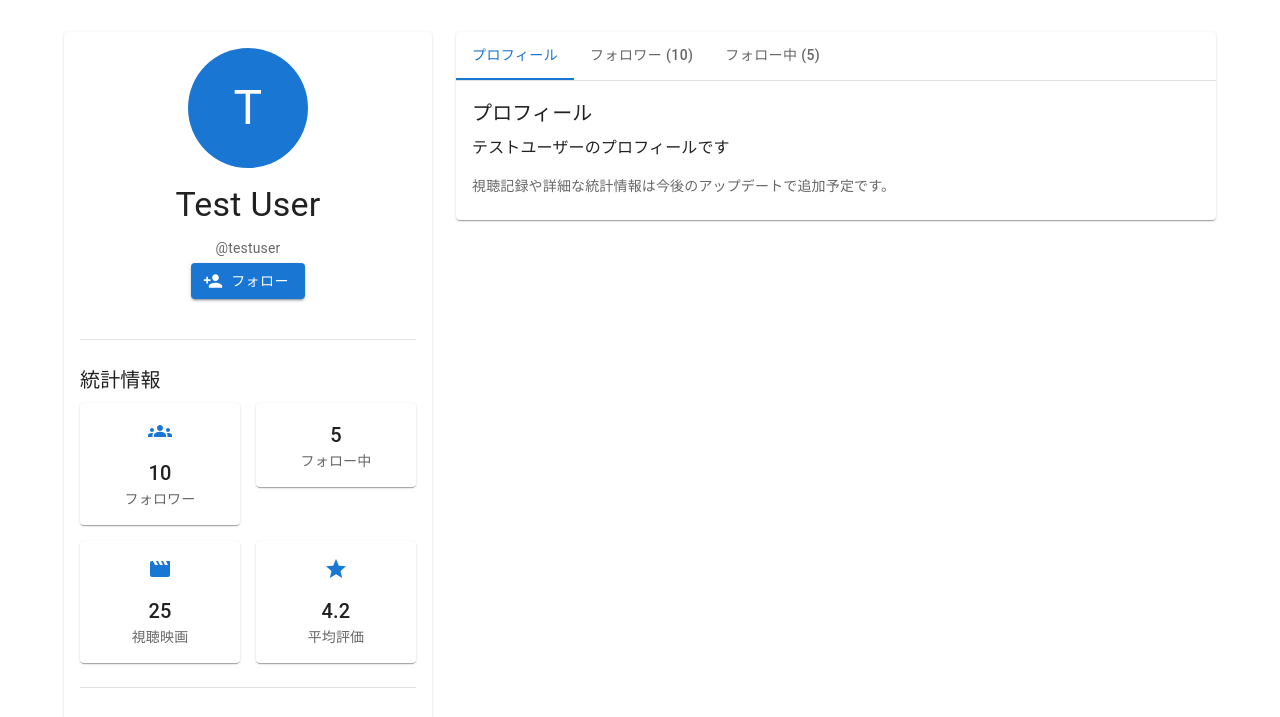
Test: UserProfile › displays empty states for followers and following
Expected: the heading "Test User" is shown, [175,184,321,226]
Click the tab "フォロワー (10)" at (642, 56), box [574,32,709,80]
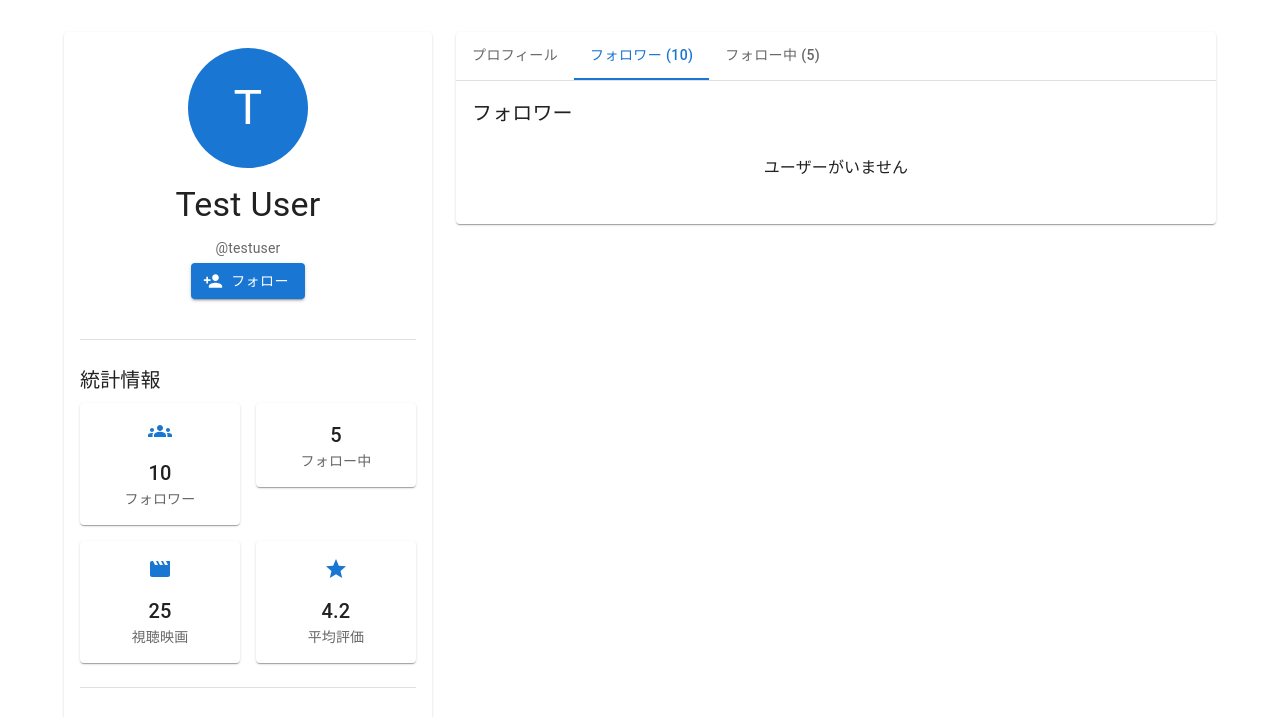
Expected: the text "ユーザーがいません" is shown, [764,158,908,177]
